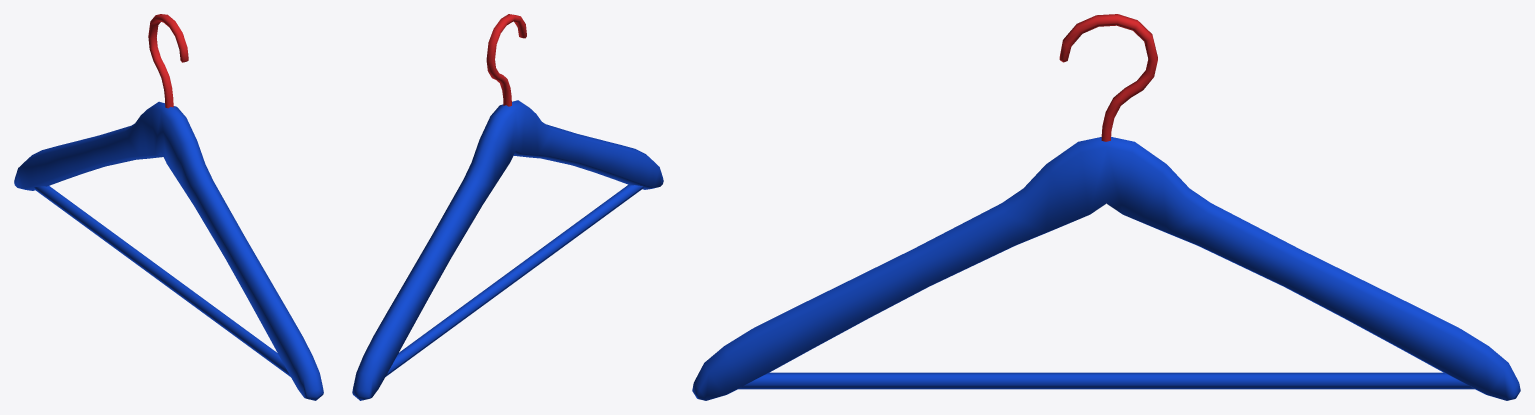
Rendered from MOD_PRO_Coat_hanger_01.fbx.
3 views of the same model, side by side, from view 1: azimuth 30°, elevation 25°; view 2: azimuth 150°, elevation 25°; view 3: azimuth 270°, elevation 25° (orthographic). The views are drawn at different scales.
Parts seen in each view (by area): view 1: MOD_PRO_PRO_Coat_hanger_01; view 2: MOD_PRO_PRO_Coat_hanger_01; view 3: MOD_PRO_PRO_Coat_hanger_01.
Part boxes in pixels (box(x1,y1,x2,y2)): MOD_PRO_PRO_Coat_hanger_01: box(14, 14, 323, 400); MOD_PRO_PRO_Coat_hanger_01: box(352, 14, 663, 400); MOD_PRO_PRO_Coat_hanger_01: box(692, 14, 1520, 400).
Bounding box in the file's own units: 0.015 × 0.2411 × 0.4697.
